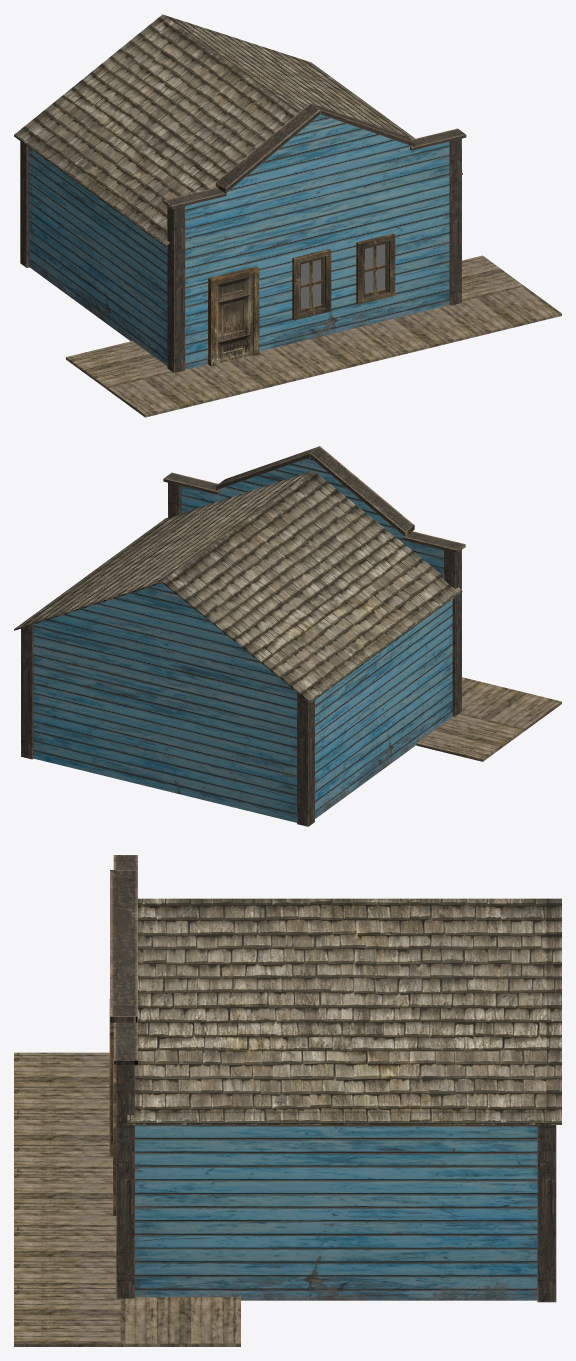
Rendered from Building5_LOD0.FBX.
3 views of the same model, one above another, from view 1: azimuth 30°, elevation 25°; view 2: azimuth 150°, elevation 25°; view 3: azimuth 270°, elevation 25° (orthographic). The views are drawn at different scales.
Visible parts, largest first — view 1: roof, building, glass; view 2: roof, building; view 3: roof, building.
Part boxes in pixels (left/top/right/bottom): roof: left=14, top=14, right=462, bottom=369; building: left=20, top=103, right=561, bottom=417; glass: left=301, top=244, right=385, bottom=308; roof: left=14, top=457, right=462, bottom=822; building: left=21, top=446, right=561, bottom=826; roof: left=127, top=898, right=561, bottom=1300; building: left=14, top=855, right=556, bottom=1346.
Bounding box in the file's own units: 405 × 216 × 323.
